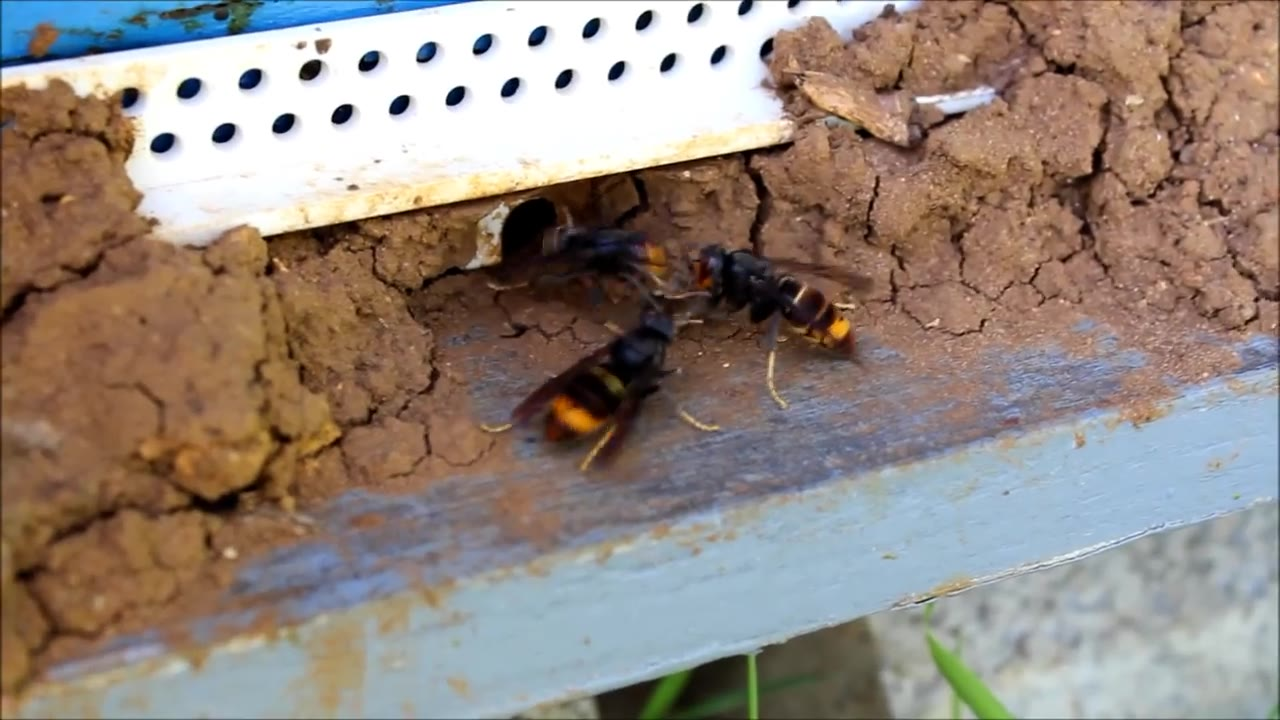hornet: (684, 238, 884, 377), (545, 314, 686, 468), (528, 226, 682, 299)
